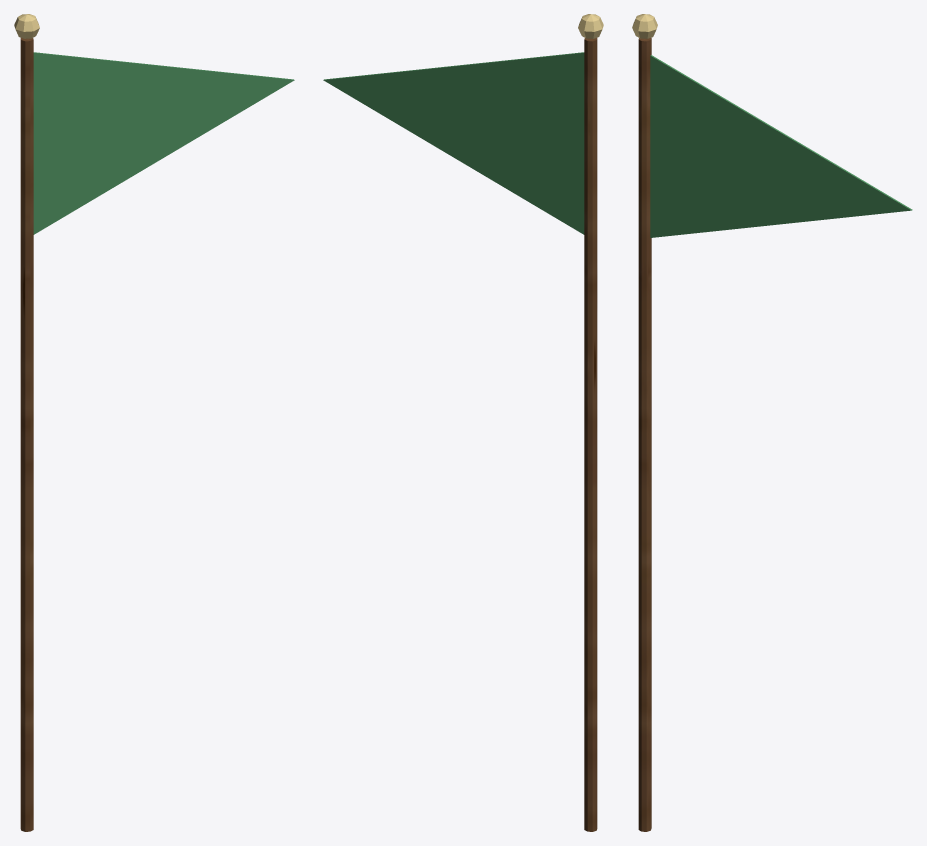
Rendered from banner_mountaineers.glb.
3 views of the same model, side by side, from view 1: azimuth 30°, elevation 25°; view 2: azimuth 150°, elevation 25°; view 3: azimuth 330°, elevation 25° (orthographic).
Parts seen in each view (by area): view 1: Banner_Mountaineers; view 2: Banner_Mountaineers; view 3: Banner_Mountaineers.
Boxes of the visible parts, <box> form: Banner_Mountaineers: <box>14,14,294,831</box>; Banner_Mountaineers: <box>323,14,603,831</box>; Banner_Mountaineers: <box>632,14,912,831</box>.
Bounding box in the file's own units: 0.96 × 2.68 × 0.0802.
Materials: 3 (1 with a texture image).
